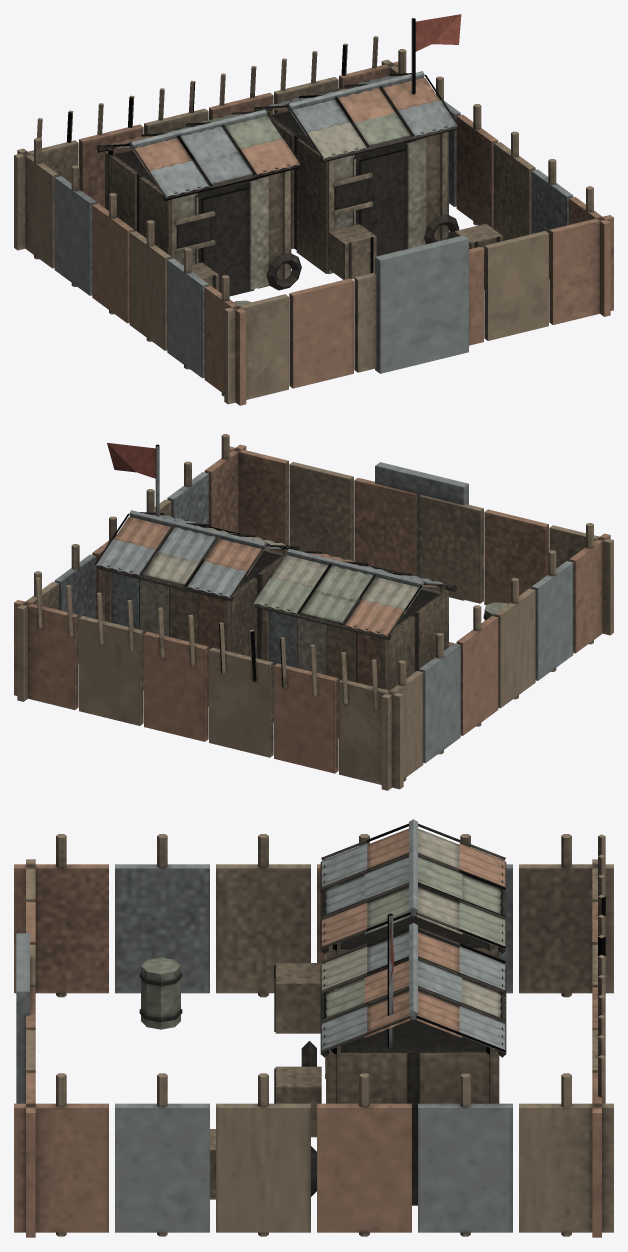
File: EnemyCamp.fbx
3 renders of one model, top to bottom at view 1: azimuth 30°, elevation 25°; view 2: azimuth 150°, elevation 25°; view 3: azimuth 270°, elevation 25°, orthographic. The views are drawn at different scales.
Visible parts, largest first — view 1: EnemyCamp; view 2: EnemyCamp; view 3: EnemyCamp.
Part boxes in pixels (left/top/right/bottom): EnemyCamp: left=14, top=14, right=613, bottom=405; EnemyCamp: left=14, top=434, right=613, bottom=790; EnemyCamp: left=14, top=819, right=613, bottom=1237.
Size of the model in its own units: 3.92 by 2.05 by 3.92.
1 material, 1 textured.
